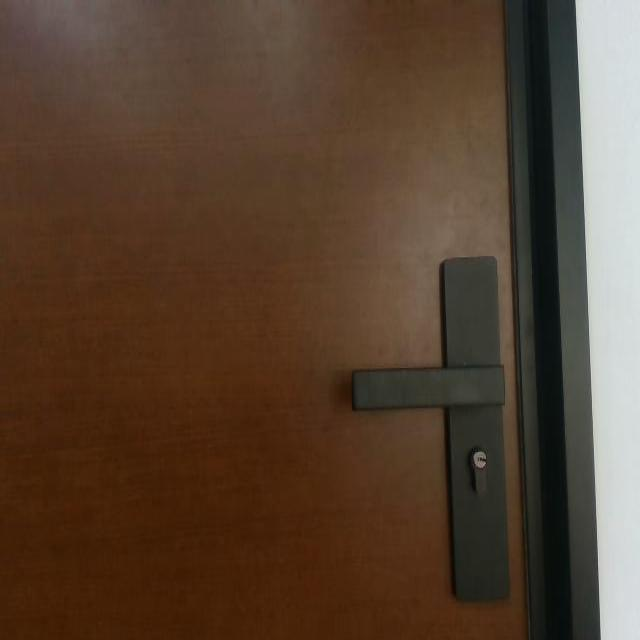doorhandle: (340, 350, 510, 422)
